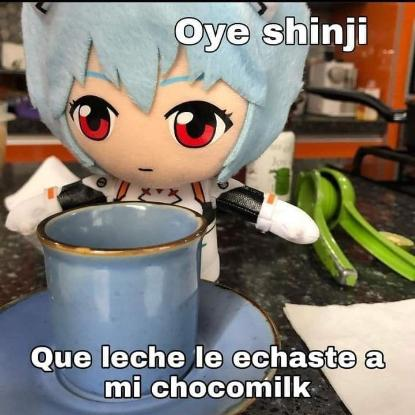rei-plush: (5, 0, 317, 251)
